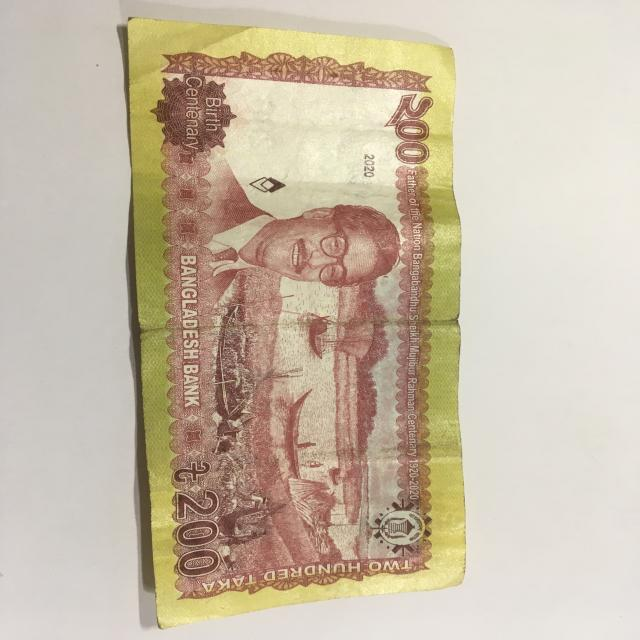Taka: (120, 11, 443, 592)
